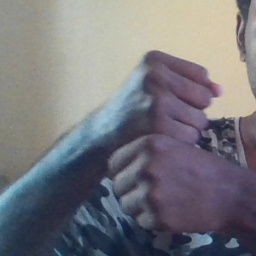G: (103, 47, 228, 240)
